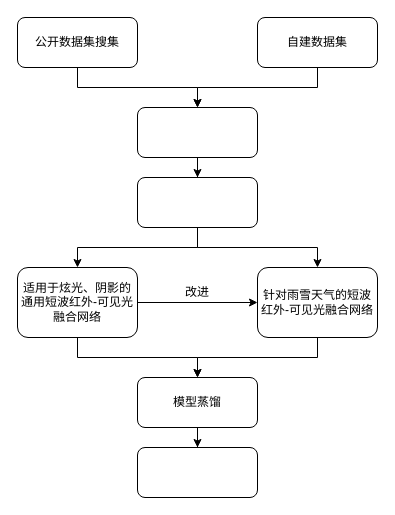
Image size: 395x515. Some labels were removed from this diagram. The shapes that lost their labels are listed below. From the top down, each one's box as (x1, y1, x2, y2) in pixels, then its label:
(136, 106, 258, 158): 配准
(136, 176, 258, 228): 算法设计与开发
(136, 446, 258, 498): 算法评估
